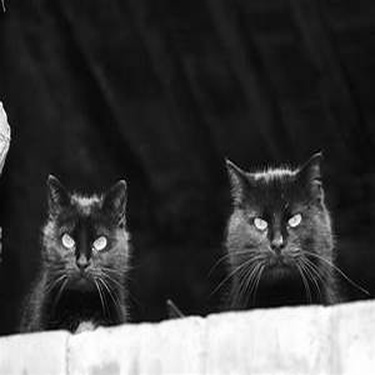cat: (197, 170, 342, 310), (20, 175, 130, 335), (166, 295, 185, 320)
